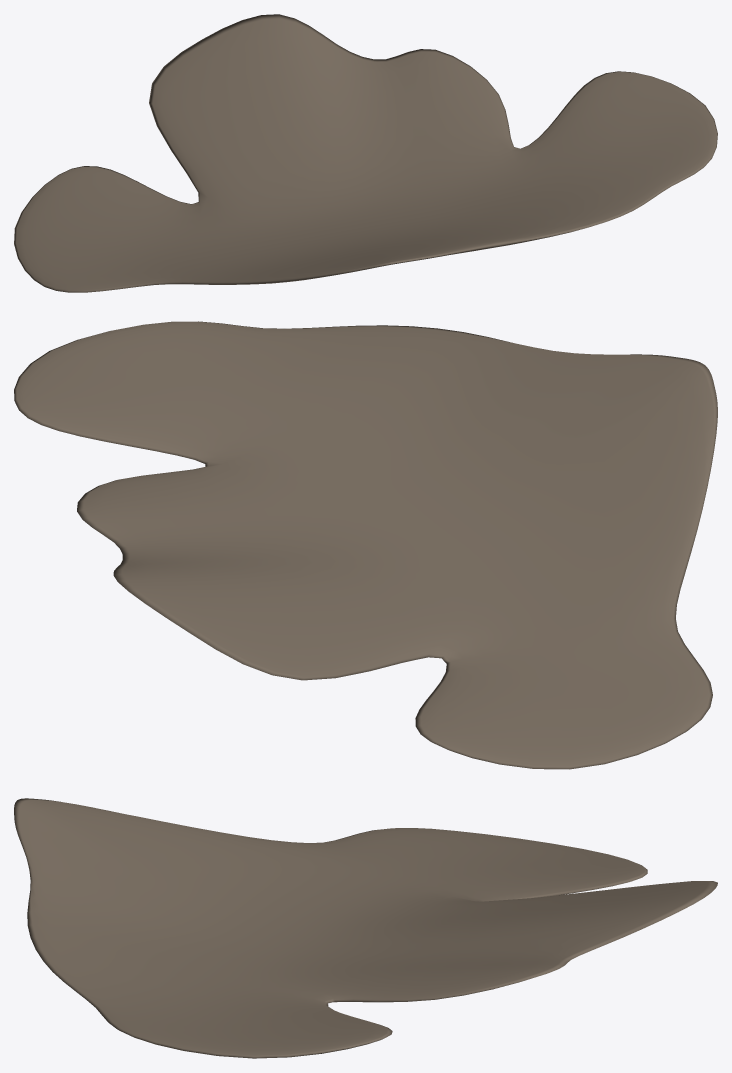
File: autum_leaf_03.fbx
The picture shows the model from 3 angles, top to bottom: view 1: azimuth 30°, elevation 25°; view 2: azimuth 150°, elevation 25°; view 3: azimuth 270°, elevation 25°; orthographic projection. The views are drawn at different scales.
Parts seen in each view (by area): view 1: pPlane1; view 2: pPlane1; view 3: pPlane1.
Part boxes in pixels (x1=…): pPlane1: x1=14, y1=14, x2=717, y2=292; pPlane1: x1=14, y1=321, x2=717, y2=769; pPlane1: x1=14, y1=798, x2=717, y2=1058.
Bounding box in the file's own units: 1.8 × 0.3322 × 1.59.
